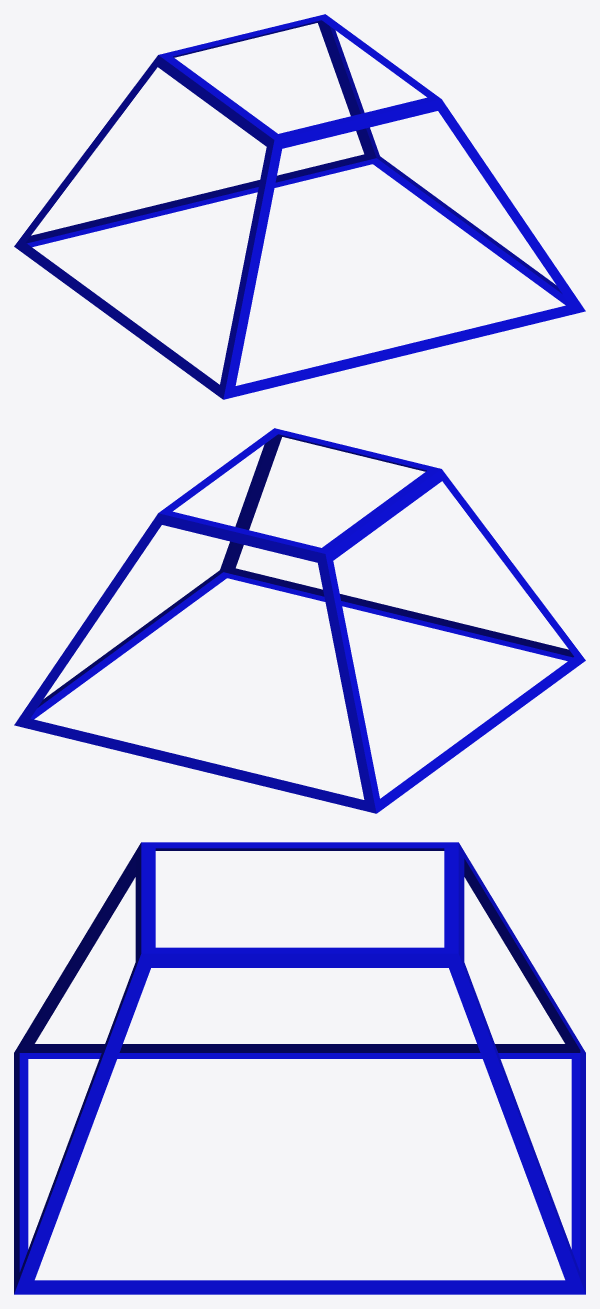
The model's file is aresta-tronco.glb.
3 renders of one model, top to bottom at view 1: azimuth 30°, elevation 25°; view 2: azimuth 150°, elevation 25°; view 3: azimuth 270°, elevation 25°, orthographic. The views are drawn at different scales.
Visible parts, largest first — view 1: Cube.002; view 2: Cube.002; view 3: Cube.002.
Boxes of the visible parts, x1,y1,x2,y2 form: Cube.002: (14, 14, 585, 399); Cube.002: (14, 428, 585, 813); Cube.002: (14, 842, 585, 1294).
Bounding box in the file's own units: 2 × 1.06 × 2.
